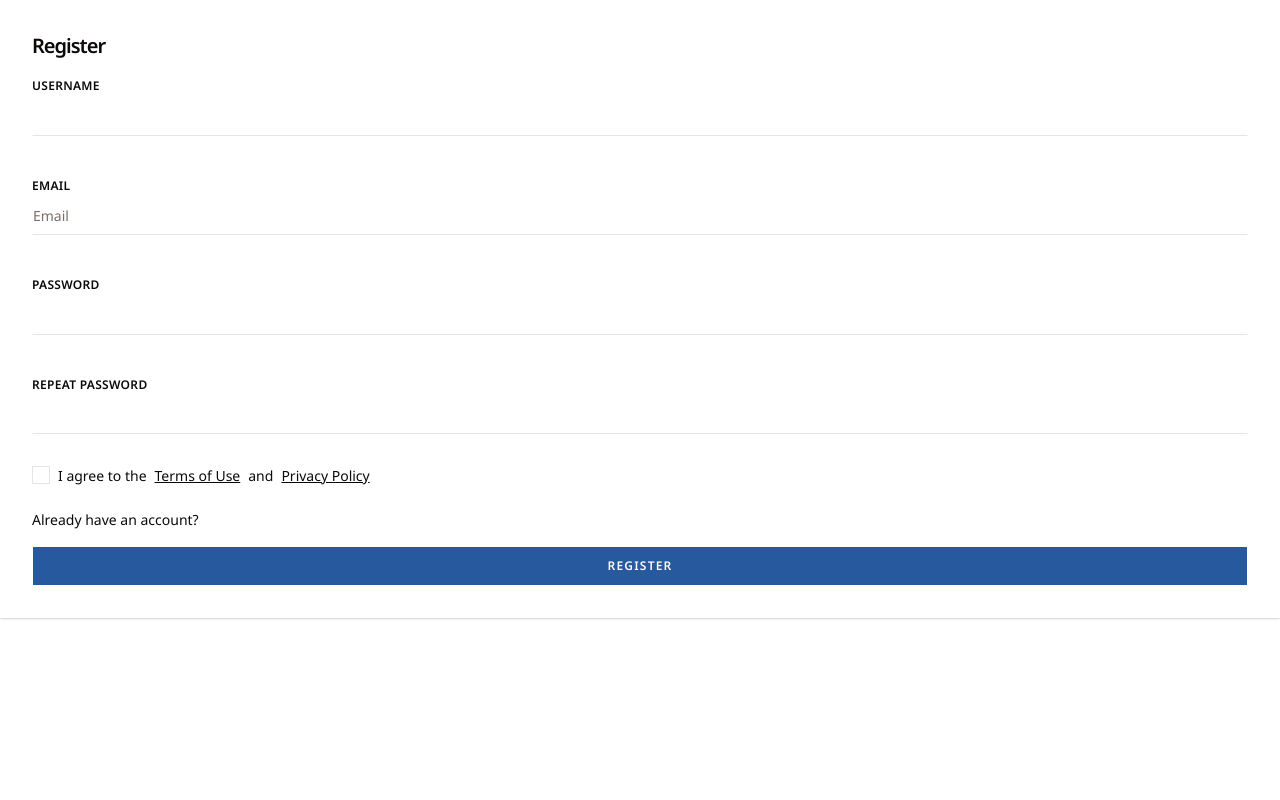
Test: RegisterForm › requires the terms to be accepted
This screenshot has width=1280, height=800.
Type "Ada" into the 1st field at (640, 116), box [32,96,1248,136]
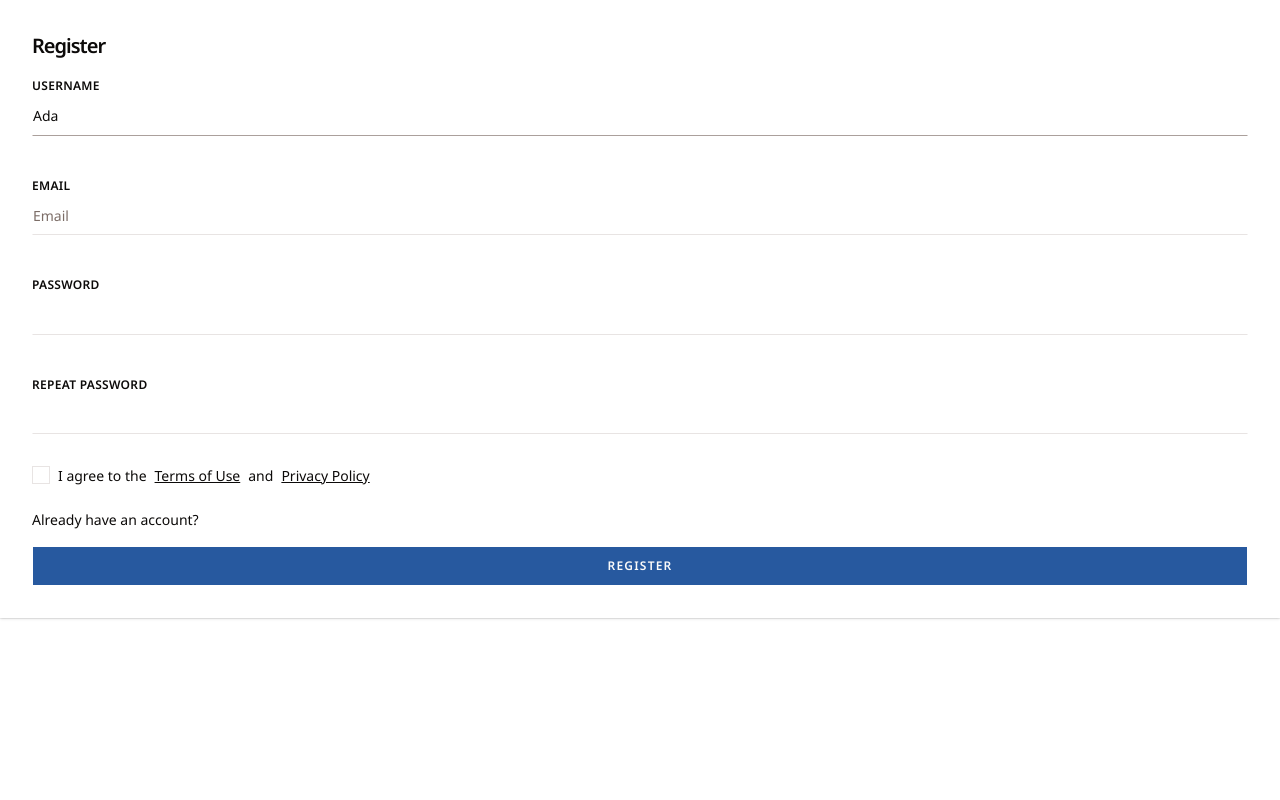
Type "ada@example.com" into the field with placeholder "Email" at (640, 215), box [32,195,1248,235]
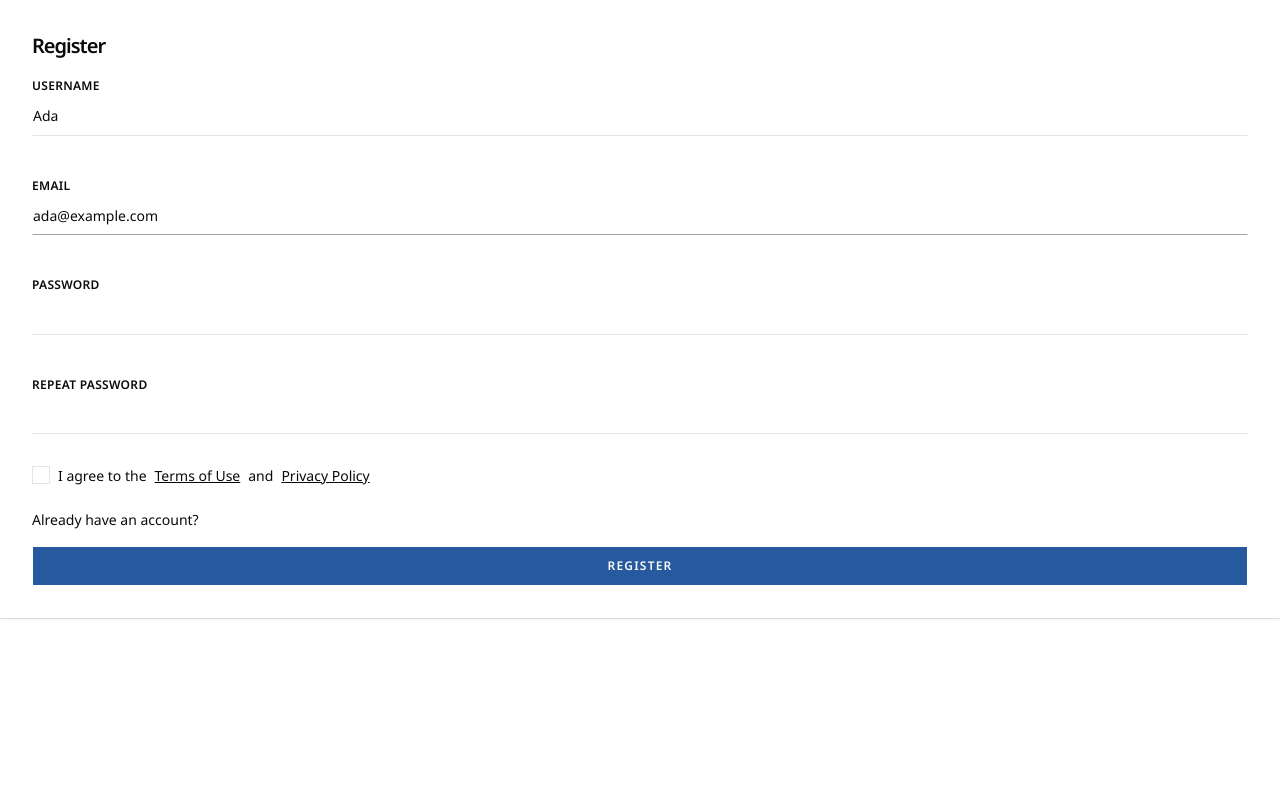
Type "Passw0rdTest" into the 1st password field at (640, 314), box [32,294,1248,334]
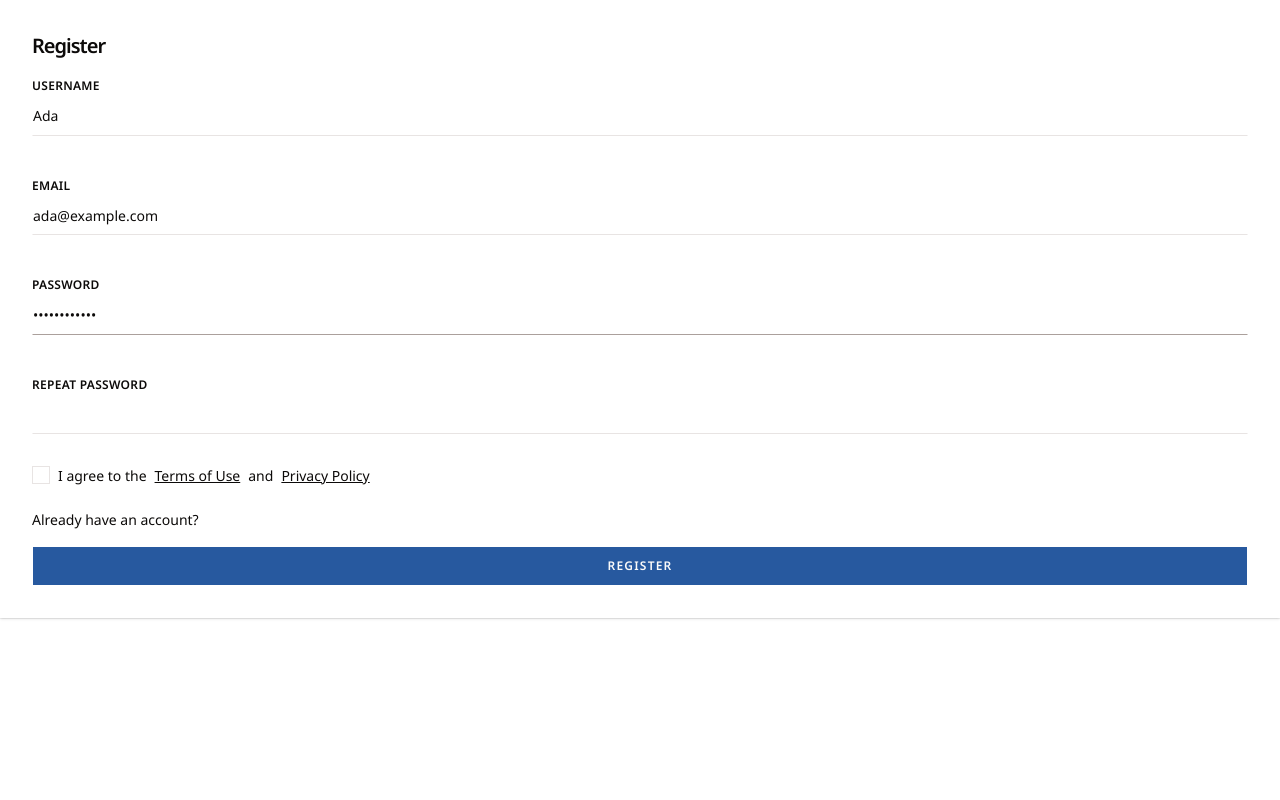
Type "Passw0rdTest" into the password field below "Repeat Password" at (640, 414), box [32,394,1248,434]
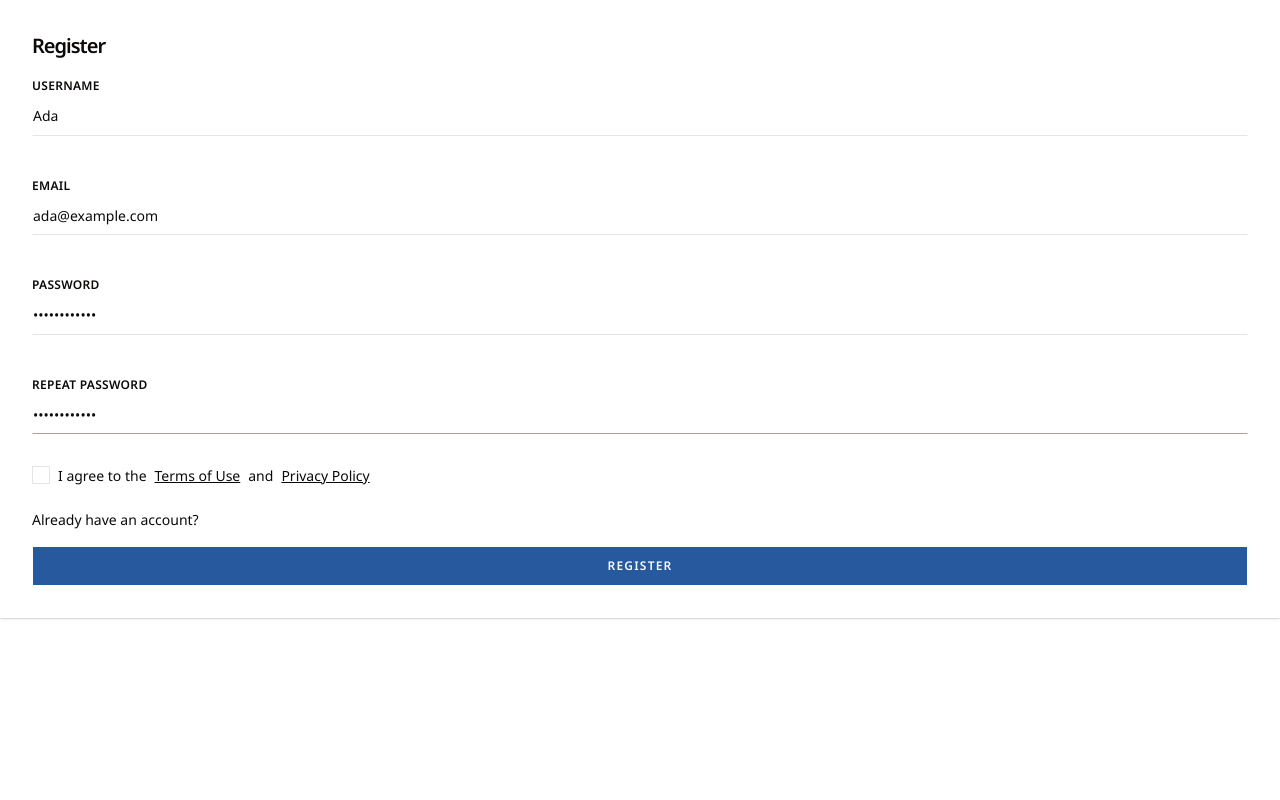
Click the button "Register" at (640, 566), box [32,546,1248,586]
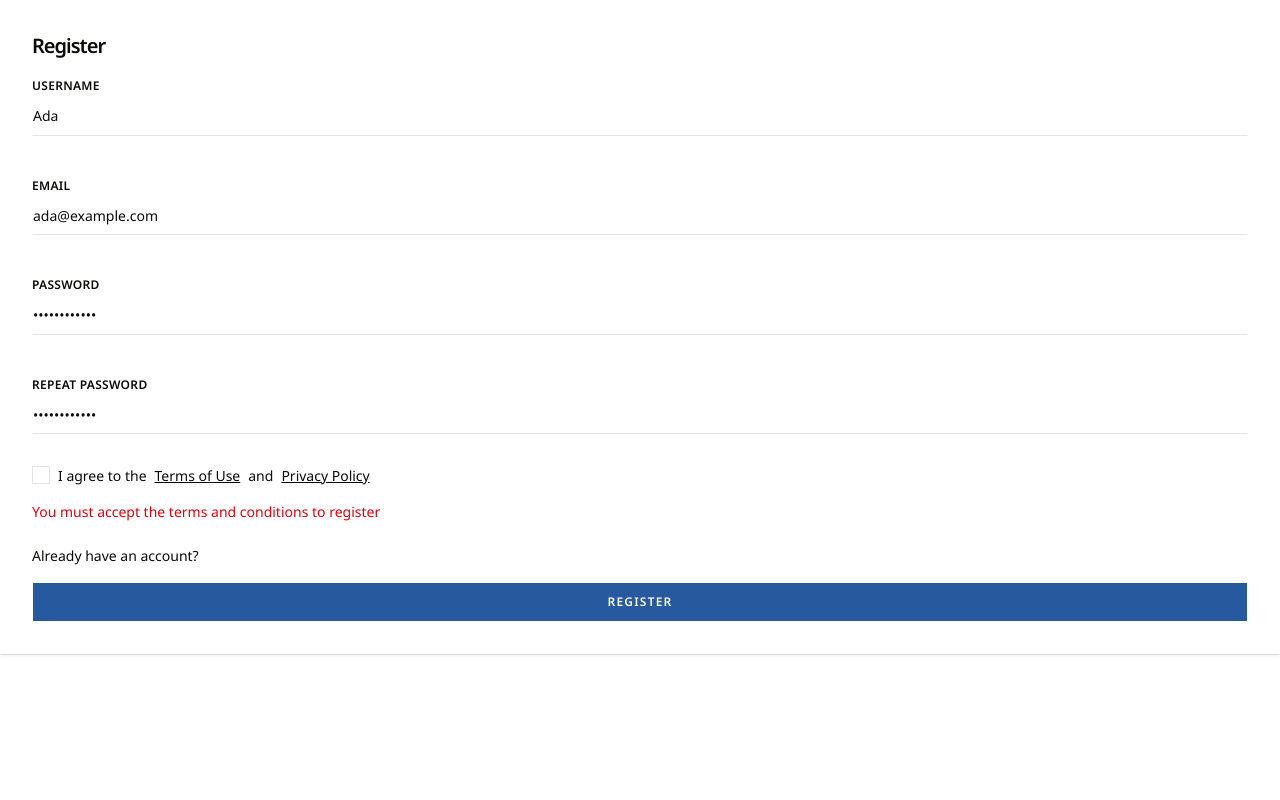
Check: the text "You must accept the terms and conditions to register" is shown, box [32,502,380,521]
